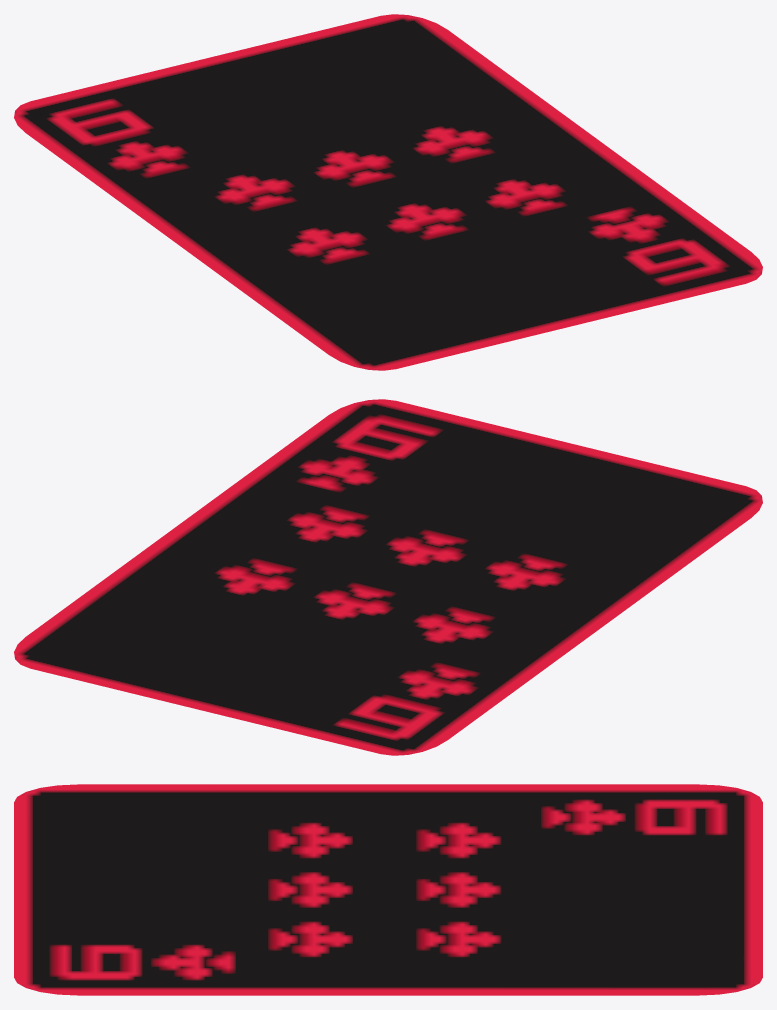
File: test_spate.glb
The picture shows the model from 3 angles, top to bottom: view 1: azimuth 30°, elevation 25°; view 2: azimuth 150°, elevation 25°; view 3: azimuth 270°, elevation 25°; orthographic projection. The views are drawn at different scales.
Parts seen in each view (by area): view 1: Plane; view 2: Plane; view 3: Plane.
Boxes of the visible parts, x1=… form: Plane: x1=14, y1=14, x2=762, y2=370; Plane: x1=14, y1=399, x2=762, y2=755; Plane: x1=14, y1=784, x2=762, y2=995.
Bounding box in the file's own units: 0.64 × 0 × 0.96.
Materials: 1 (1 with a texture image).
